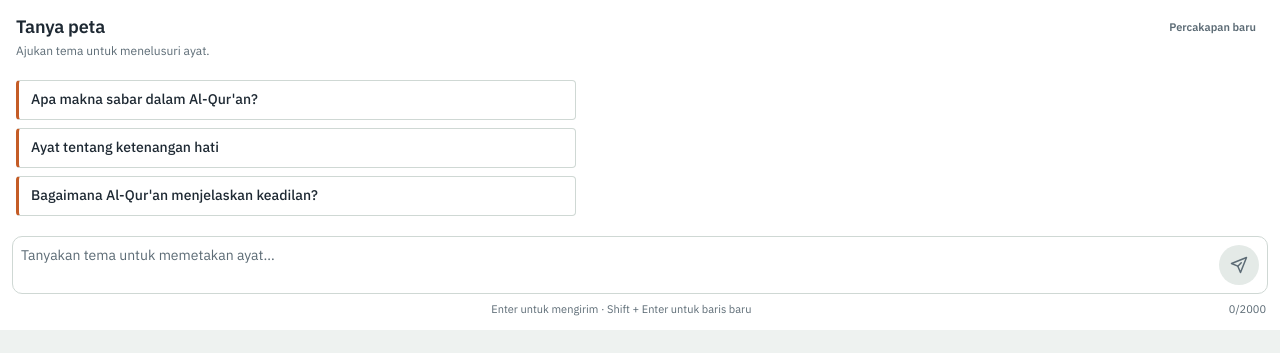
question lifecycle › handles malformed responses without rendering arbitrary text
In the text box: (616, 265) [21,245,1211,285], type "Sabar"
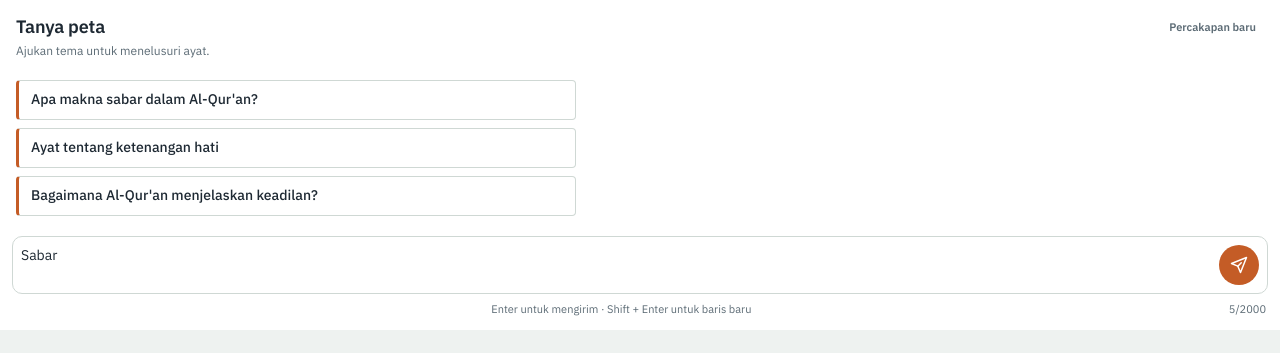
Click the button named "Kirim pertanyaan": click(1239, 265) [1219,245,1259,285]
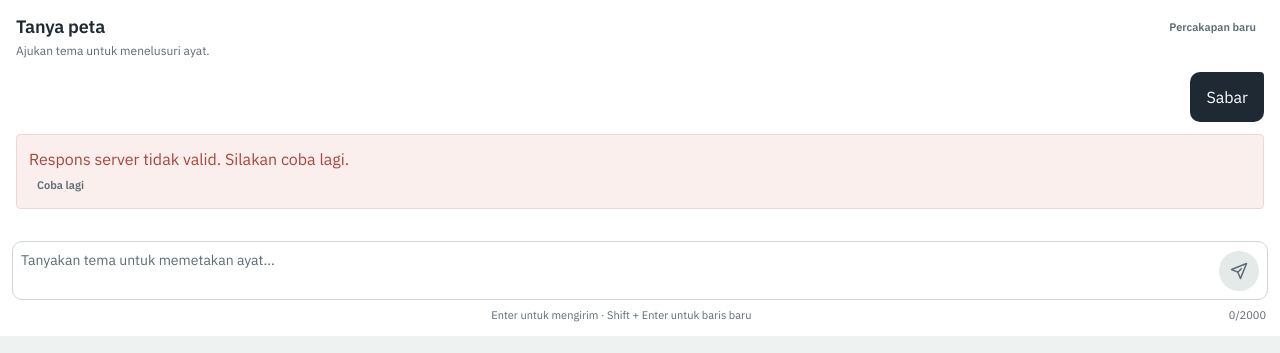
Expected: the text box is enabled, [21,250,1211,291]
Expected: the message shows "Respons server tidak valid", [29,149,349,169]
